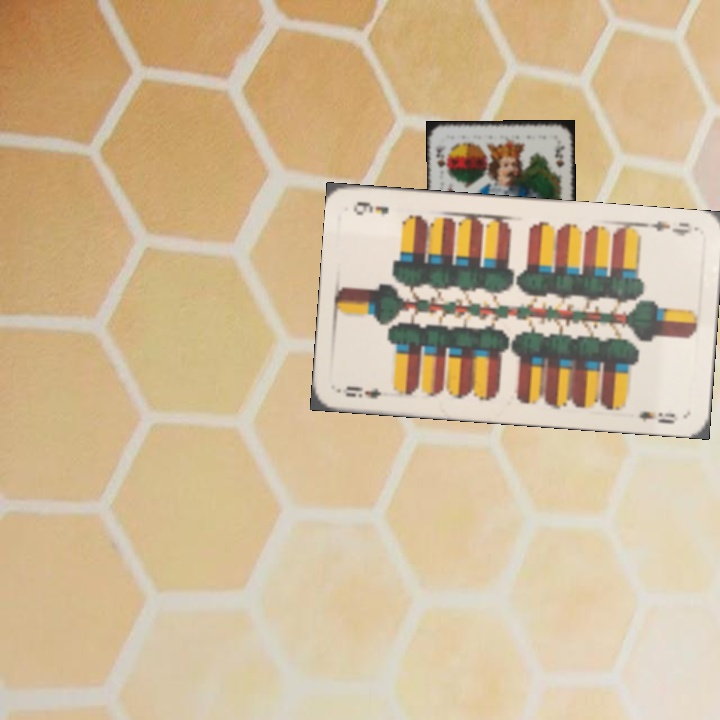E9: (639, 217, 698, 239), (342, 382, 384, 401)
SK: (432, 143, 450, 177)
